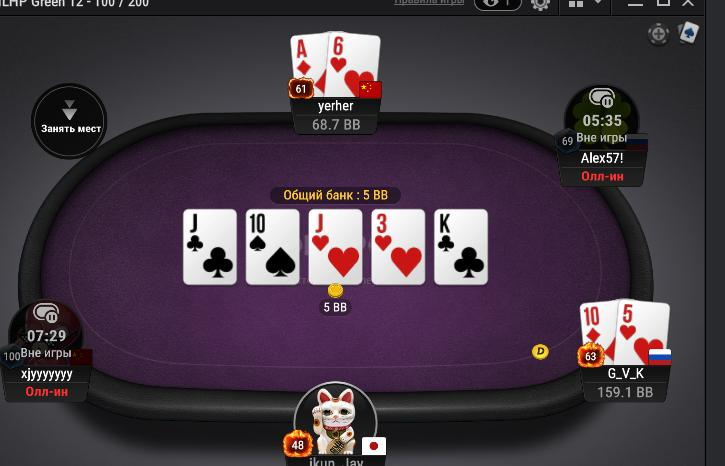10d: (581, 301, 620, 366)
10s: (246, 210, 300, 285)
3h: (372, 209, 427, 284)
5h: (617, 301, 669, 362)
6h: (326, 31, 380, 99)
Ad: (290, 33, 327, 96)
Jc: (183, 211, 236, 284)
Jh: (310, 211, 361, 286)
Kc: (434, 209, 488, 285)
